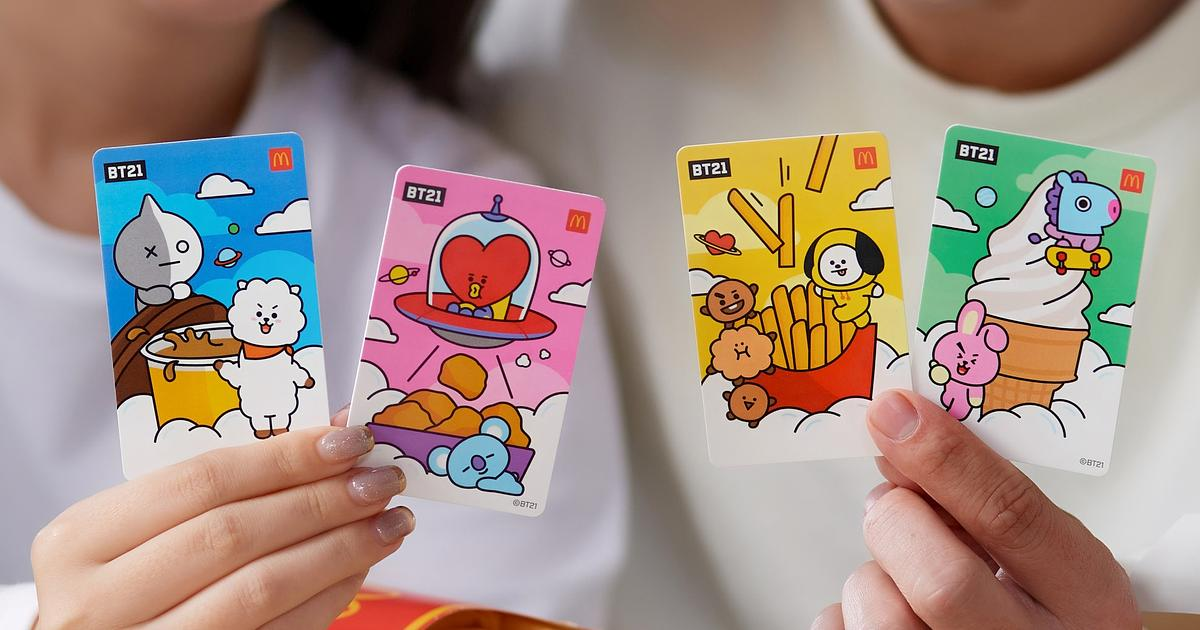card: (358, 161, 612, 521)
